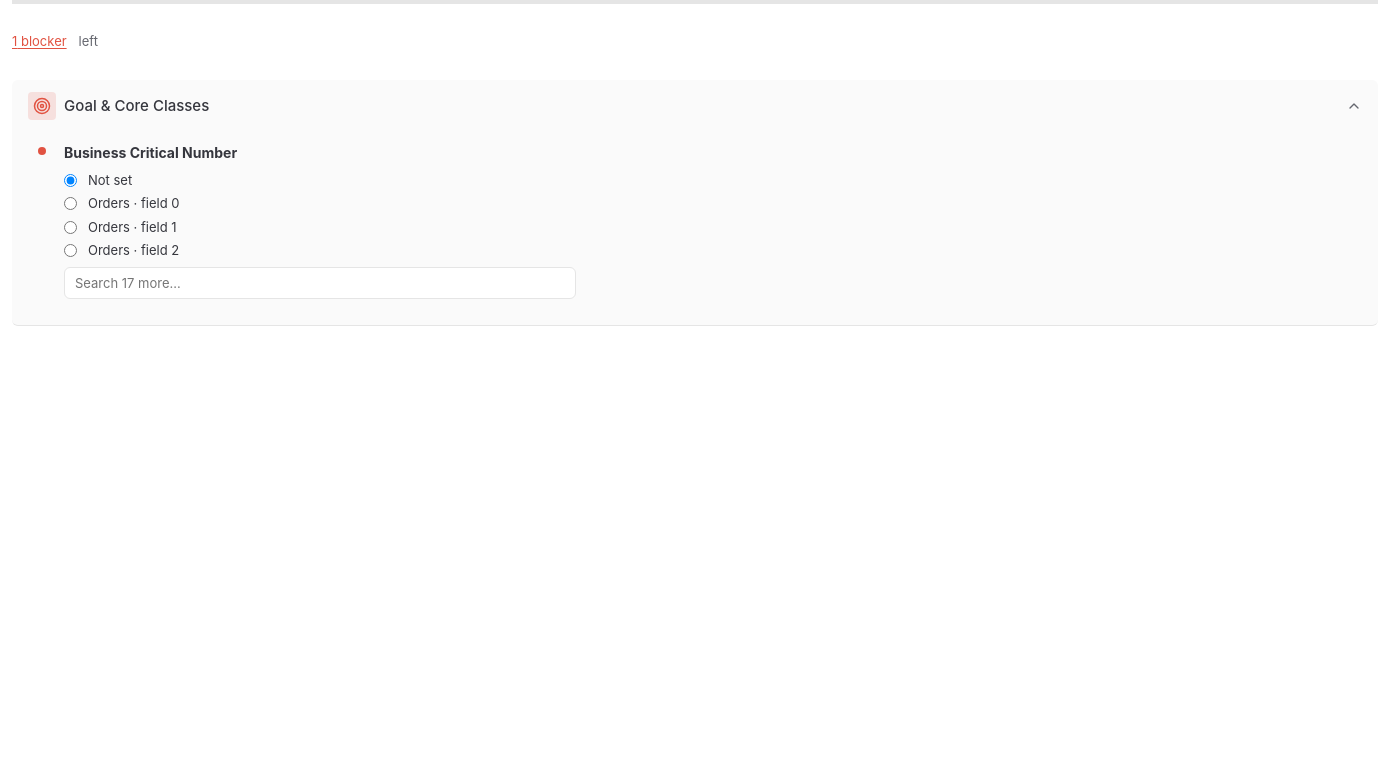
Test: layout › the option list is portalled out of the collapsible clip
The image size is (1378, 768).
Type "field" into the dropdown.
click(320, 282); type("field")  # box [64,266,576,298]
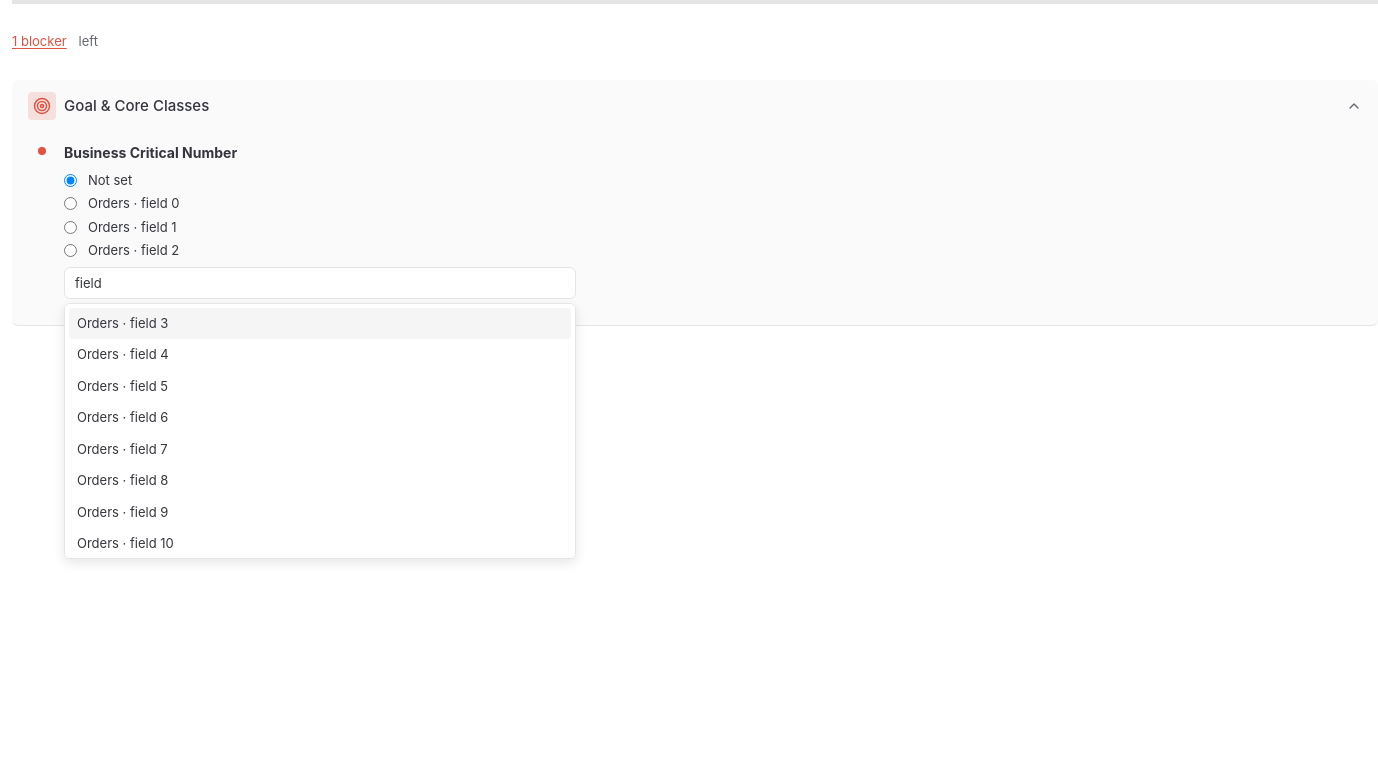
Expected: the element that starts with "Orders · field 3" is shown, [64,302,576,558]
